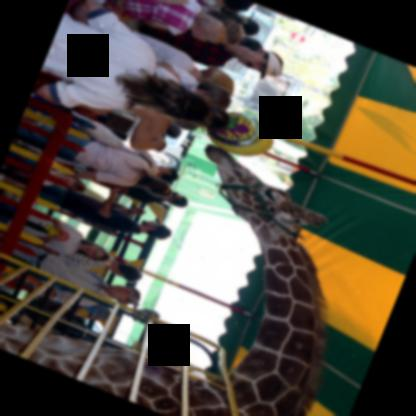handbag: (75, 118, 152, 168)
